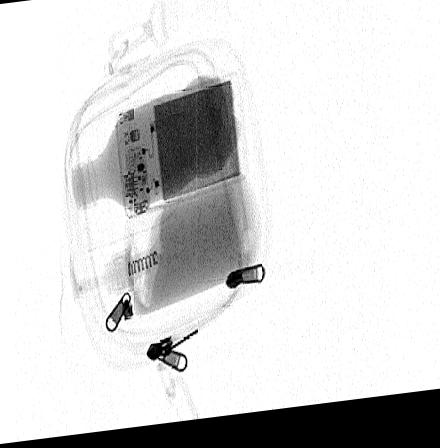Powerbank: (113, 77, 247, 224)
